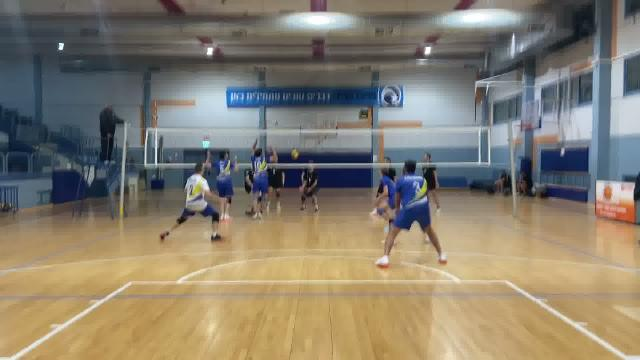ball: (289, 149, 300, 158)
